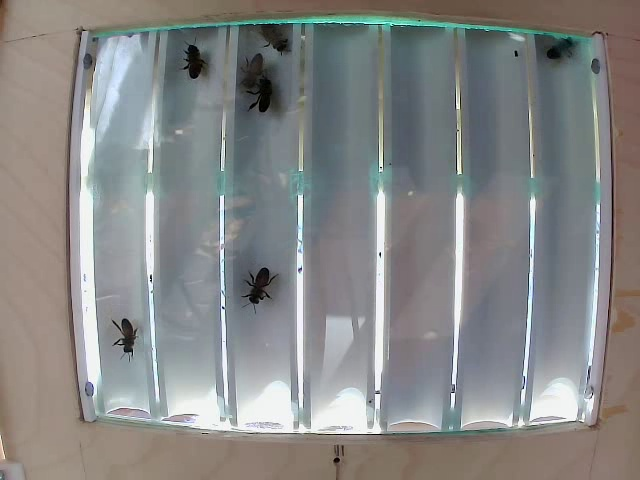bee: (261, 18, 301, 62), (110, 310, 145, 352), (245, 259, 275, 304), (250, 83, 285, 113), (171, 44, 201, 73), (239, 51, 266, 81)
